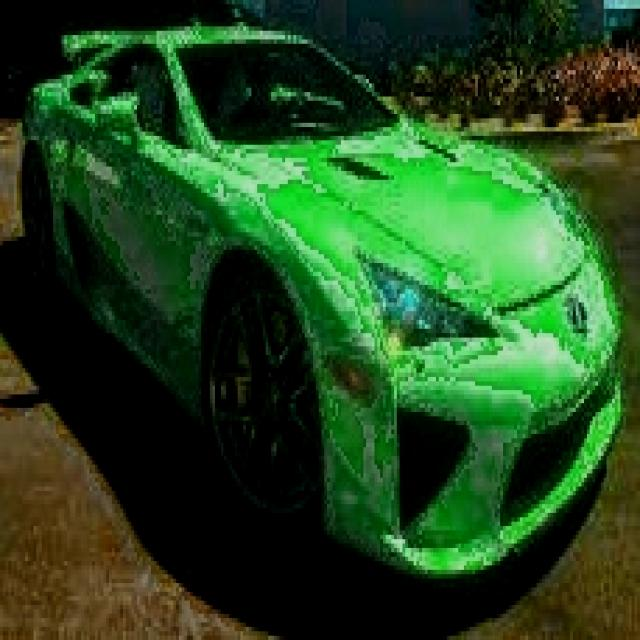green: (22, 15, 640, 594)
